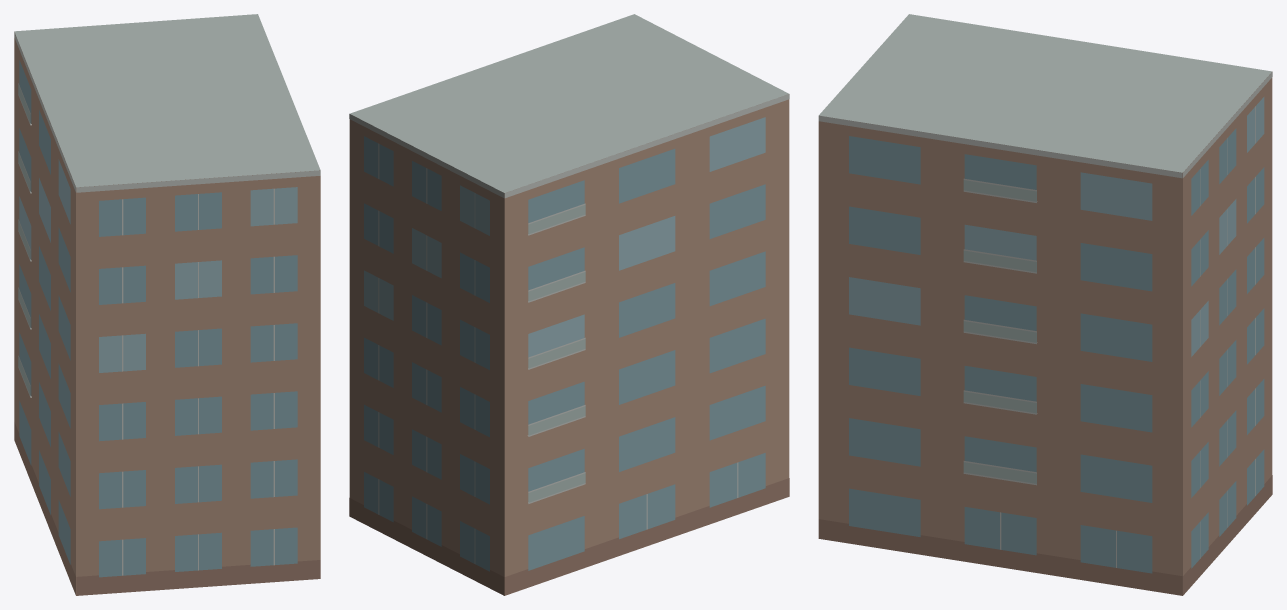
The model's file is survey-upis-32893444.glb.
3 renders of one model, left to right at view 1: azimuth 30°, elevation 25°; view 2: azimuth 150°, elevation 25°; view 3: azimuth 270°, elevation 25°, orthographic. The views are drawn at different scales.
Parts seen in each view (by area): view 1: survey-upis-32893444.tmp; view 2: survey-upis-32893444.tmp; view 3: survey-upis-32893444.tmp.
Boxes of the visible parts, x1,y1,x2,y2 form: survey-upis-32893444.tmp: (14,14,320,595); survey-upis-32893444.tmp: (349,14,789,595); survey-upis-32893444.tmp: (818,14,1272,595).
Size of the model in its own units: 14.73 by 18.3 by 17.8.
